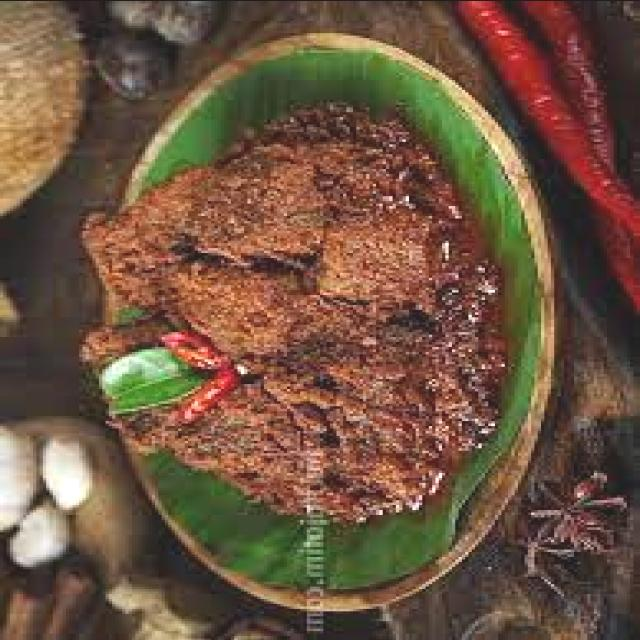rendang: (82, 101, 501, 524)
